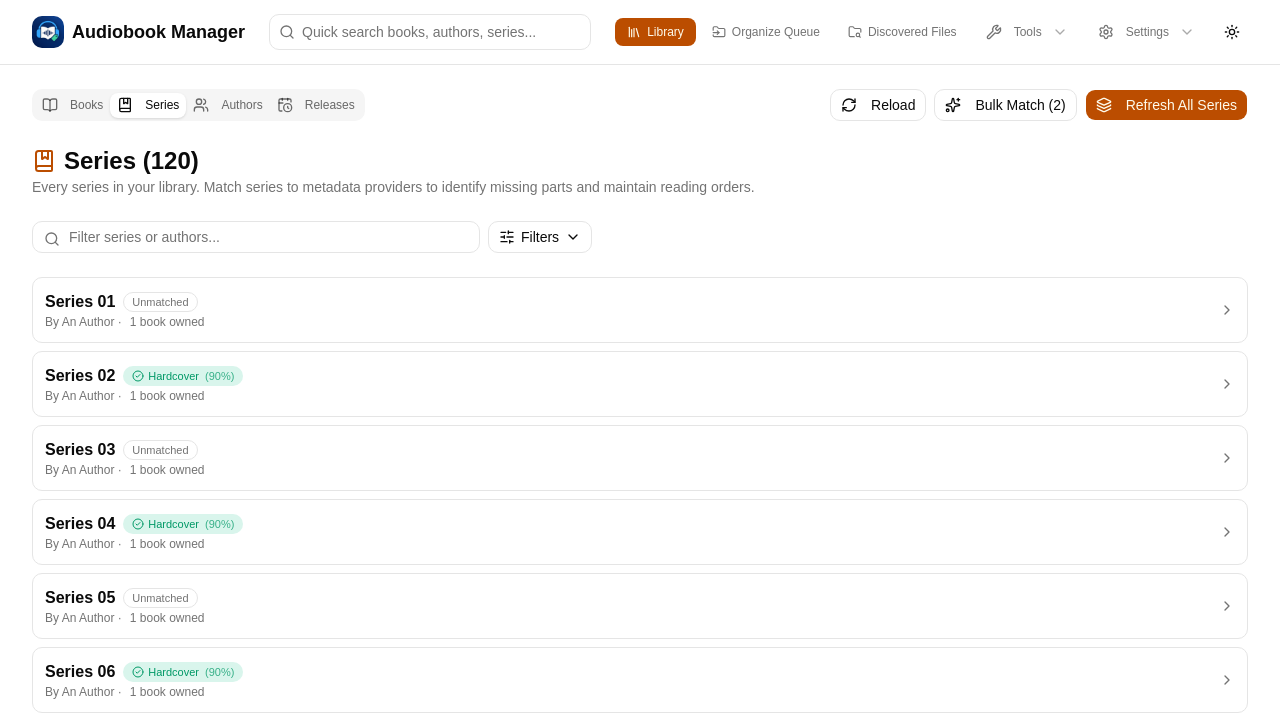
SeriesOverview › relabels Unsupported as Unsupported/None and offers an Any supported option
Expected: the text "Series 01" is shown, [45, 290, 115, 314]
Click the button "Filters".
click(540, 237)  # box [488, 221, 592, 253]
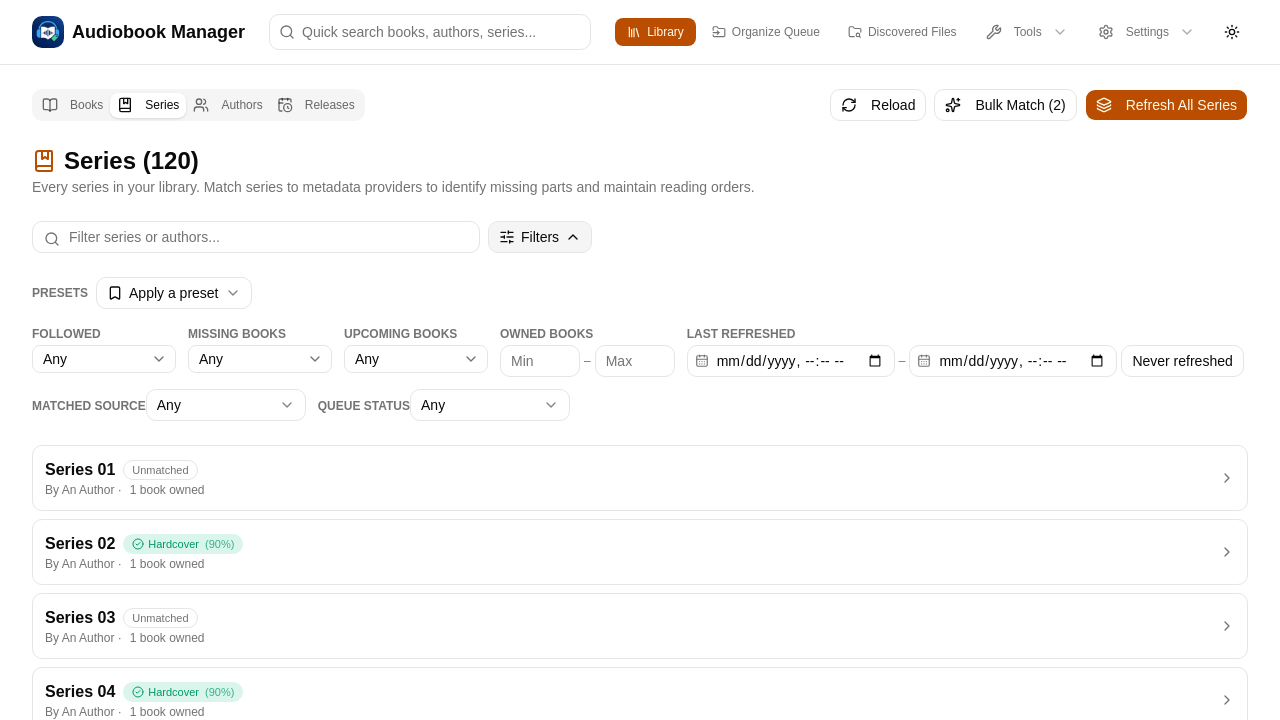
Note: Scoped to the field: the Queue status field's trigger is also an "Any" button.
Click the button "Any" next to "Matched source".
click(226, 405)  # box [146, 389, 306, 421]
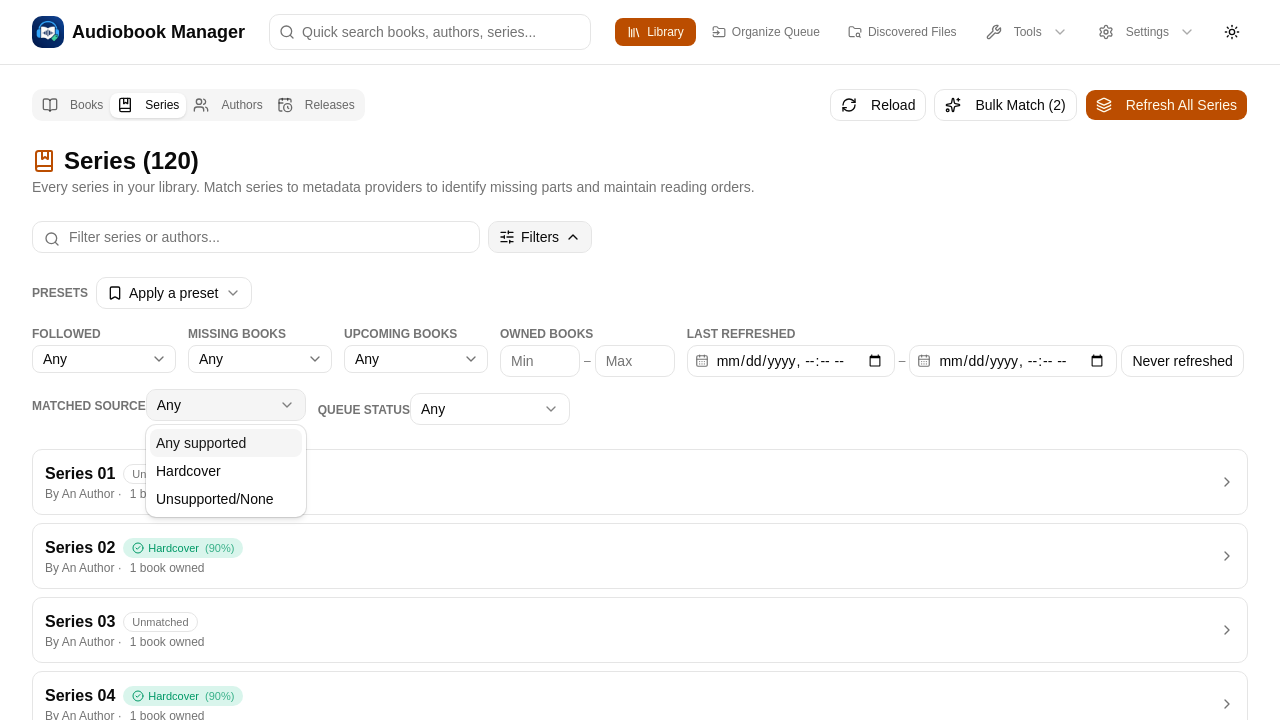
Result: the menu item "Unsupported/None" is shown at [156, 491, 274, 507]
Result: the menu item "Any supported" is shown at [150, 429, 302, 457]
